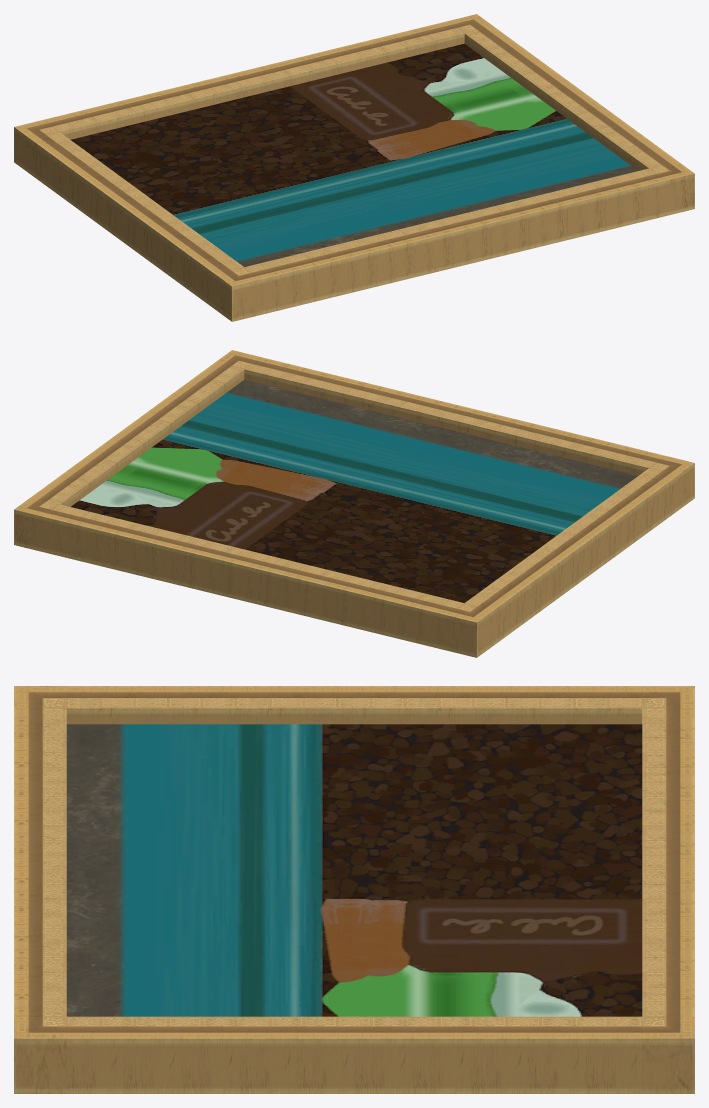
File: art19.fbx
3 views of the same model, one above another, from view 1: azimuth 30°, elevation 25°; view 2: azimuth 150°, elevation 25°; view 3: azimuth 270°, elevation 25° (orthographic). The views are drawn at different scales.
Parts seen in each view (by area): view 1: NightWatch1__mBody, mFrameGold__mFrameGold2; view 2: NightWatch1__mBody, mFrameGold__mFrameGold2; view 3: NightWatch1__mBody, mFrameGold__mFrameGold2.
Part boxes in pixels (x1=…): NightWatch1__mBody: x1=70, y1=43, x2=637, y2=266; mFrameGold__mFrameGold2: x1=14, y1=14, x2=694, y2=321; NightWatch1__mBody: x1=71, y1=379, x2=638, y2=602; mFrameGold__mFrameGold2: x1=14, y1=350, x2=694, y2=657; NightWatch1__mBody: x1=66, y1=724, x2=642, y2=1016; mFrameGold__mFrameGold2: x1=14, y1=686, x2=694, y2=1093.
Size of the model in its own units: 1462 by 107 by 1193.
